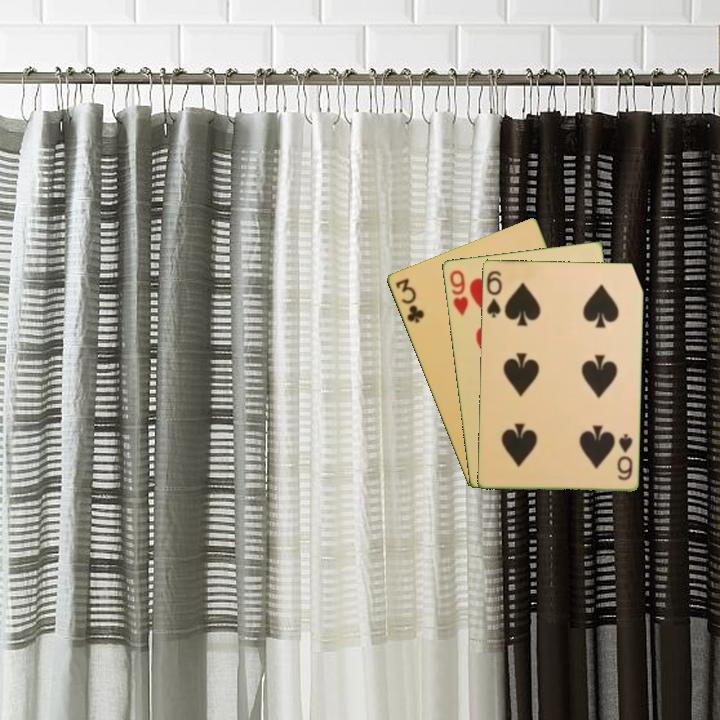3c: (391, 274, 427, 326)
6s: (483, 267, 505, 320), (613, 430, 635, 483)
9h: (446, 266, 471, 318)
